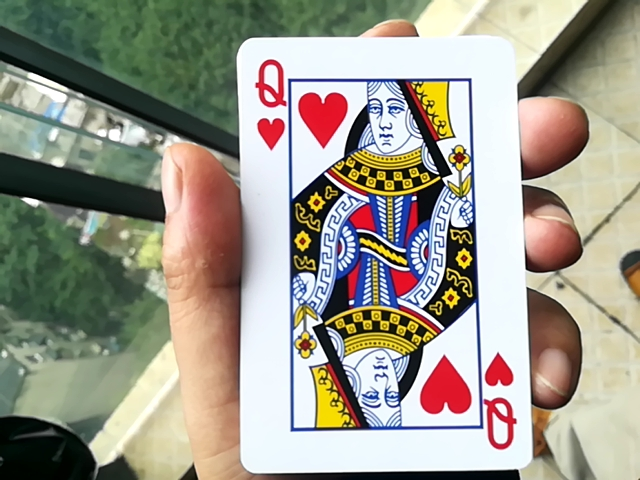hx q: (213, 38, 548, 475)
